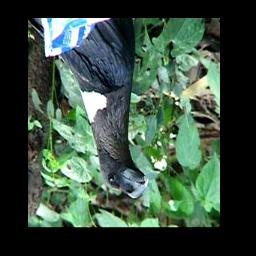Crow: (50, 20, 149, 198)
